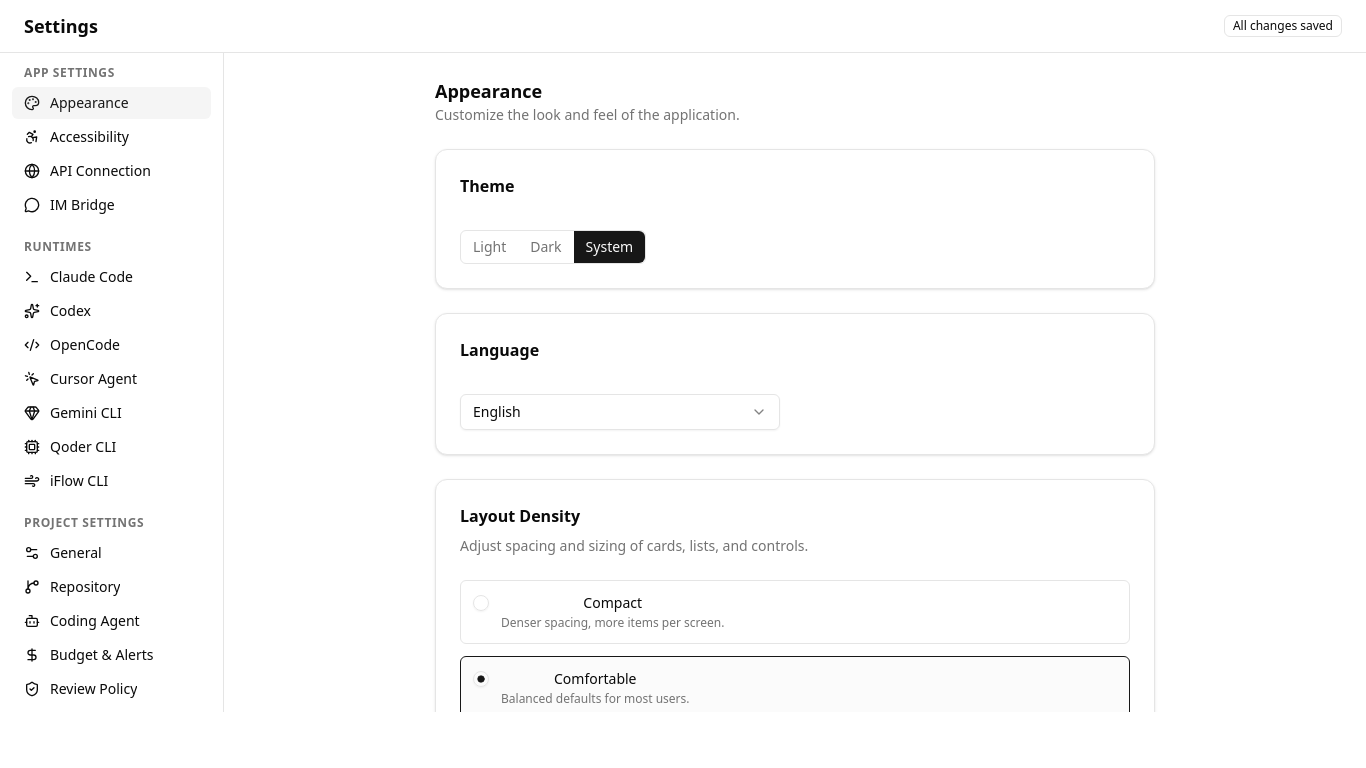
it: SettingsPage › keeps the draft and shows save failure feedback when the request fails
Click the button "General". click: (112, 553)
box: 12,537 -> 211,569
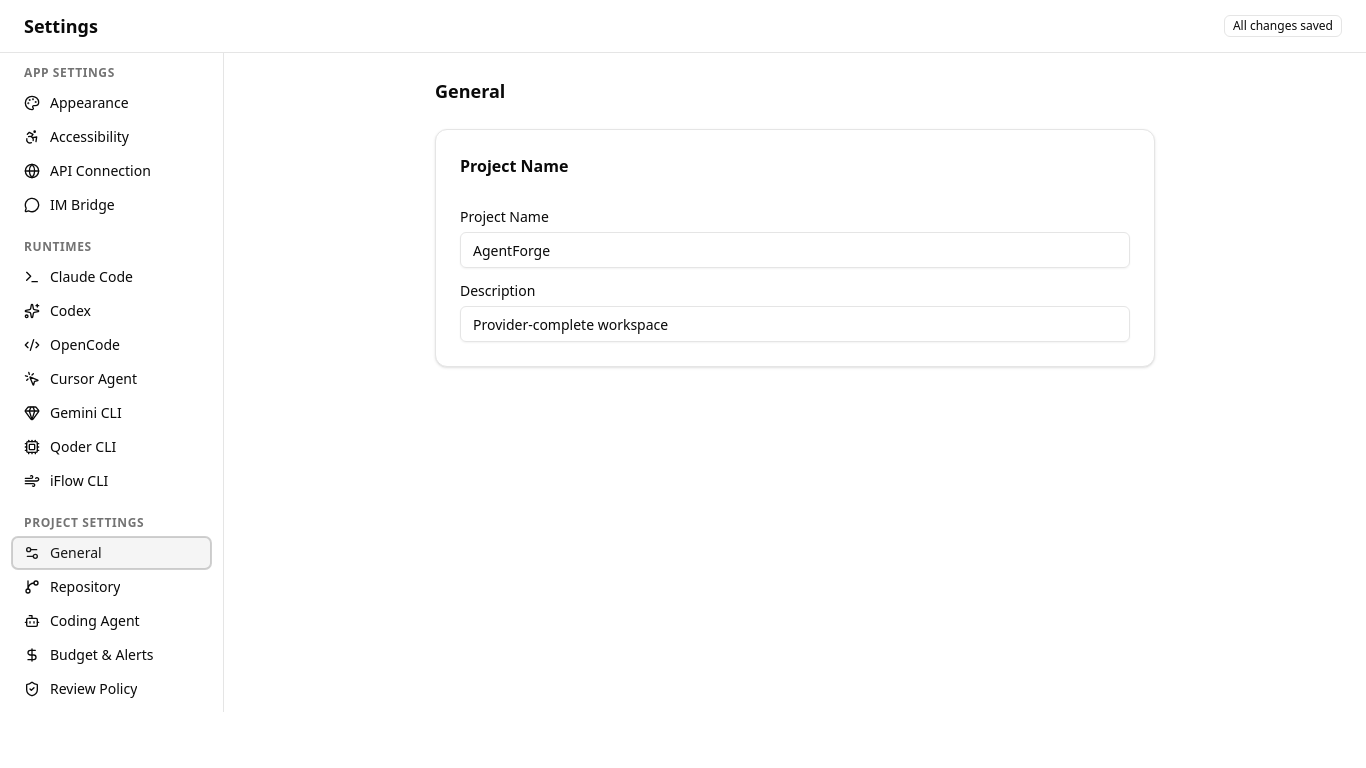
Replace the text in the field labelled "Project Name" with "AgentForge Failing Save". click: (795, 250)
box: 460,232 -> 1130,268
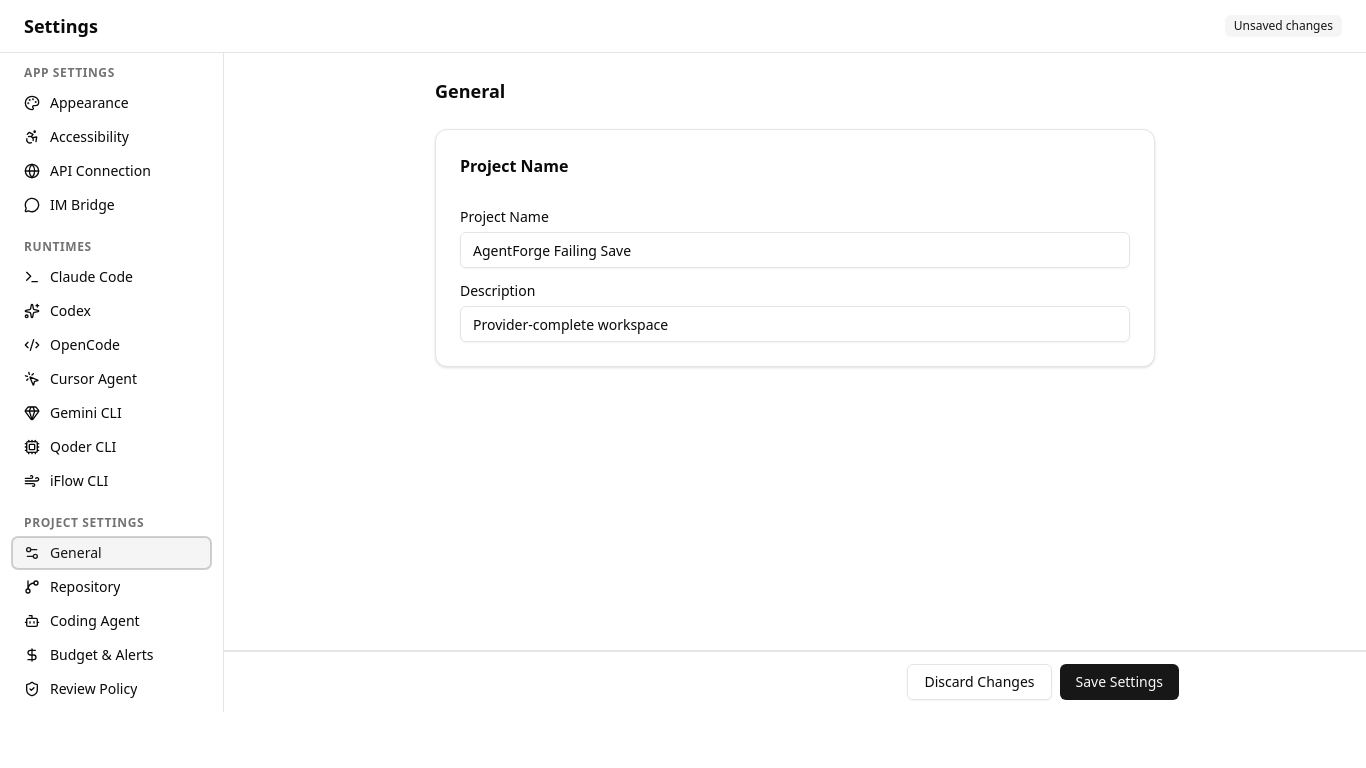
Click the button "Save Settings". click: (1119, 682)
box: 1060,664 -> 1179,700
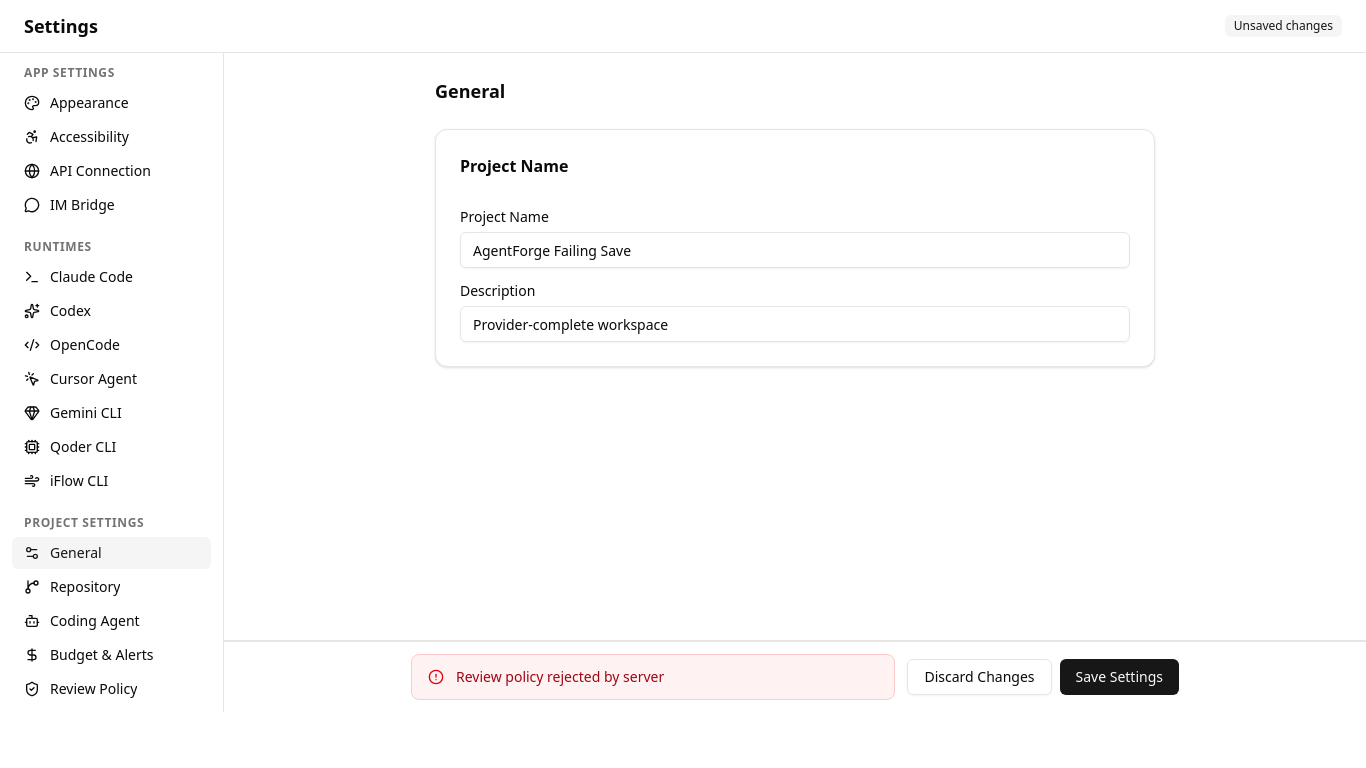
Expected: the text "Unsaved changes" is shown, 1225,15 -> 1342,37
Expected: the text "Review policy rejected by server" is shown, 456,667 -> 664,686
